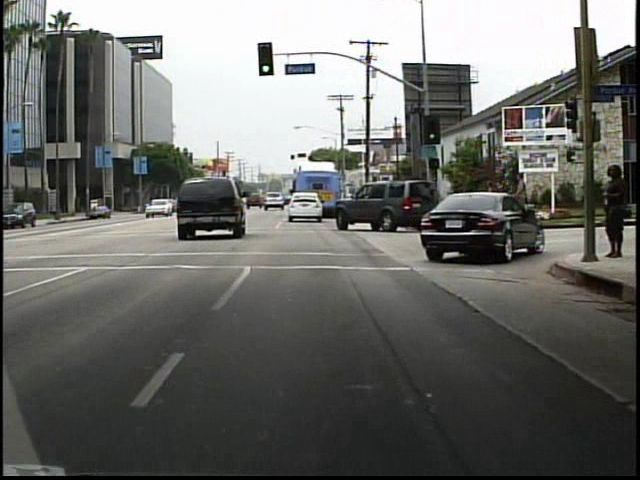person: (597, 160, 624, 260), (473, 177, 505, 236), (603, 171, 623, 235), (509, 173, 530, 224)
